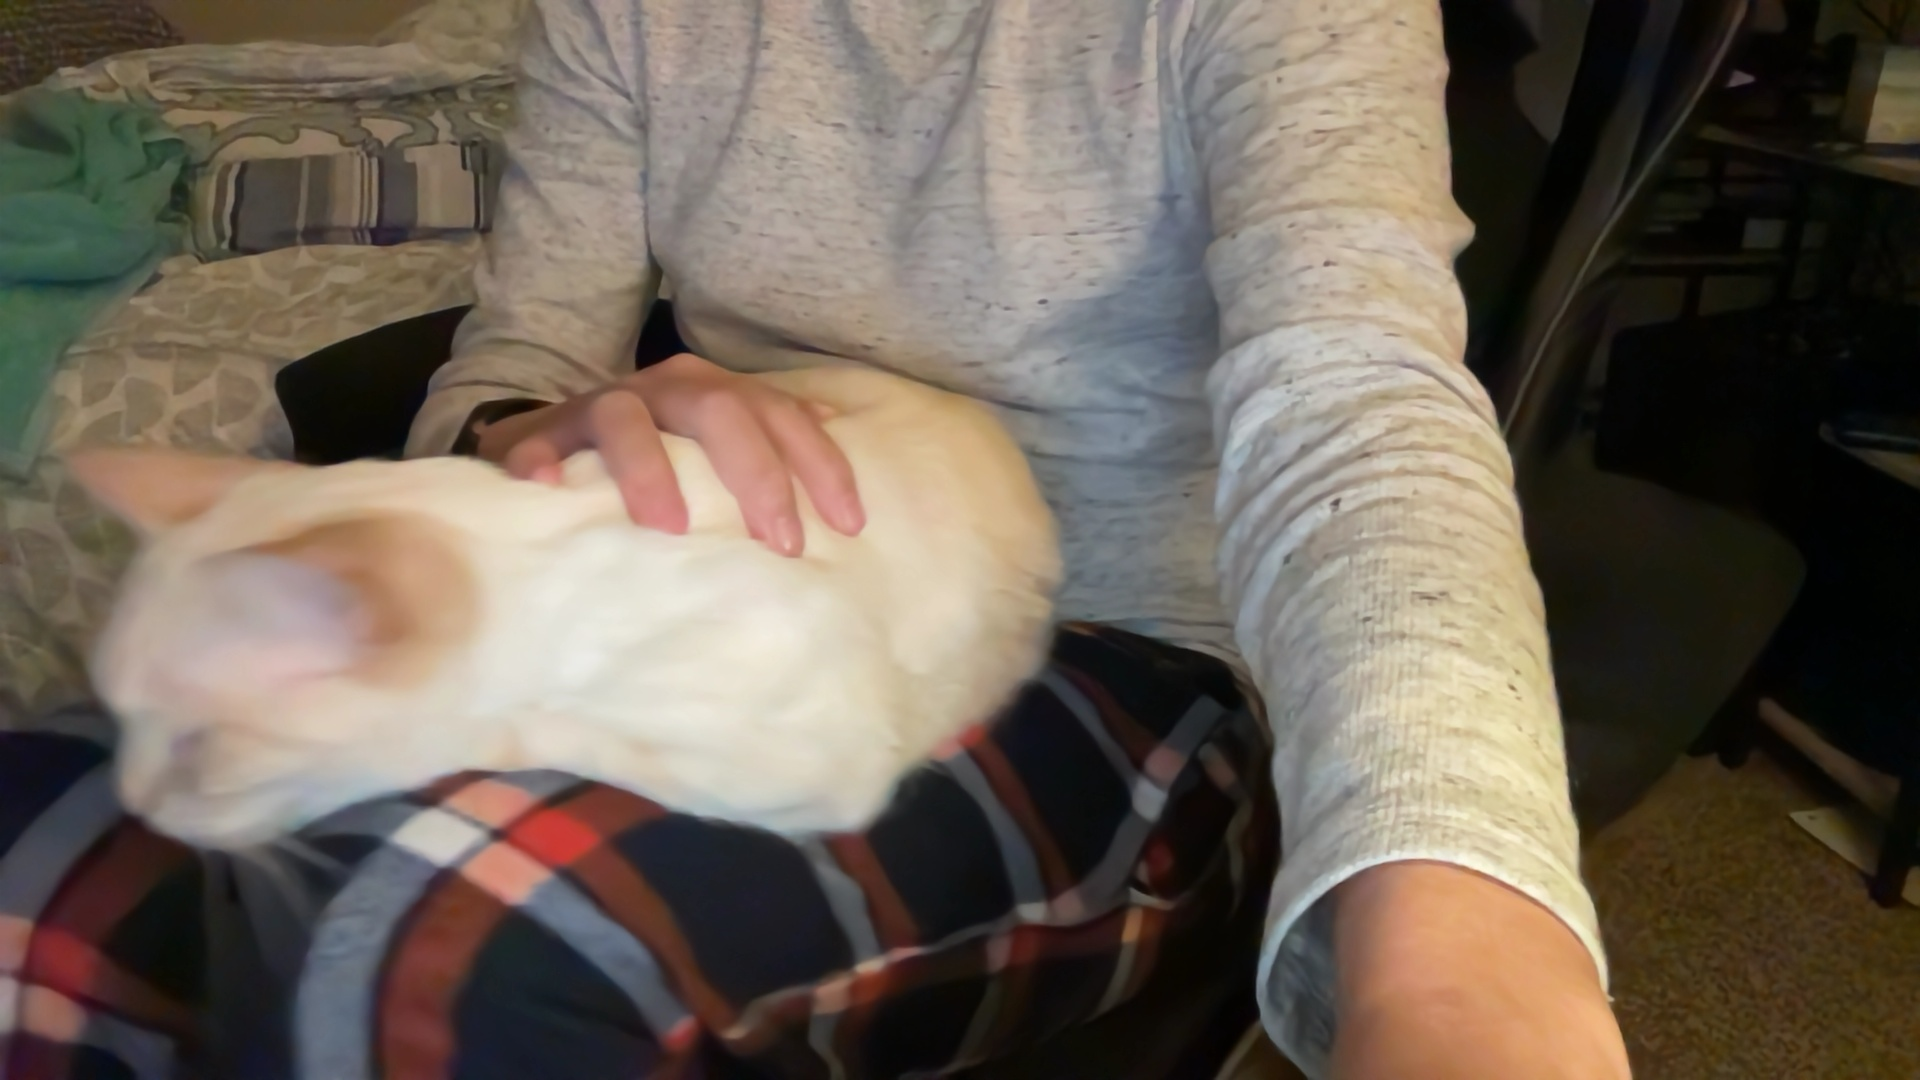cat: (65, 363, 1072, 844)
